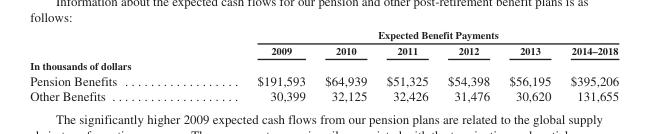table: (29, 28, 618, 103)
table column: (29, 28, 186, 103), (186, 28, 314, 103), (314, 28, 376, 103), (498, 28, 560, 103), (376, 28, 437, 103), (437, 28, 498, 103), (560, 28, 618, 103)
table column header: (29, 28, 618, 58)
table projected row header: (29, 58, 618, 72)
table row: (29, 42, 618, 58), (29, 72, 618, 88), (29, 88, 618, 103), (29, 28, 618, 42), (29, 58, 618, 72)
table spanning cell: (186, 28, 618, 42)
